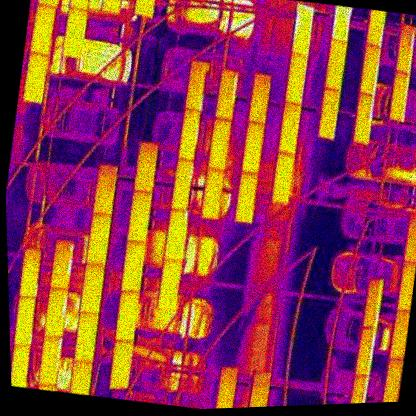Diode: (213, 67, 241, 120), (289, 3, 317, 56), (386, 69, 412, 123), (358, 40, 383, 96), (49, 238, 76, 289), (43, 287, 69, 339), (351, 93, 376, 147), (37, 334, 63, 385), (360, 277, 385, 330), (177, 107, 202, 160), (171, 160, 195, 212), (354, 325, 378, 377), (184, 60, 208, 111), (392, 25, 416, 75), (344, 373, 370, 404)
Hotspot: (163, 208, 190, 261)
Normal: (20, 51, 50, 105), (239, 120, 267, 176), (125, 190, 154, 244), (156, 257, 184, 312), (113, 288, 141, 342), (119, 239, 147, 293), (232, 170, 260, 224), (268, 151, 296, 205), (281, 51, 309, 105), (29, 1, 56, 57), (71, 311, 100, 363), (84, 212, 112, 265), (132, 140, 160, 193), (108, 336, 135, 390), (78, 261, 106, 313), (207, 116, 233, 170), (276, 101, 303, 153), (246, 72, 273, 124), (323, 35, 349, 89), (316, 88, 342, 140), (60, 9, 87, 58), (387, 308, 411, 363), (17, 246, 42, 298), (92, 165, 118, 215), (200, 167, 225, 219), (12, 295, 36, 346), (213, 364, 239, 409), (380, 358, 404, 402), (246, 367, 270, 407), (10, 344, 31, 388)
